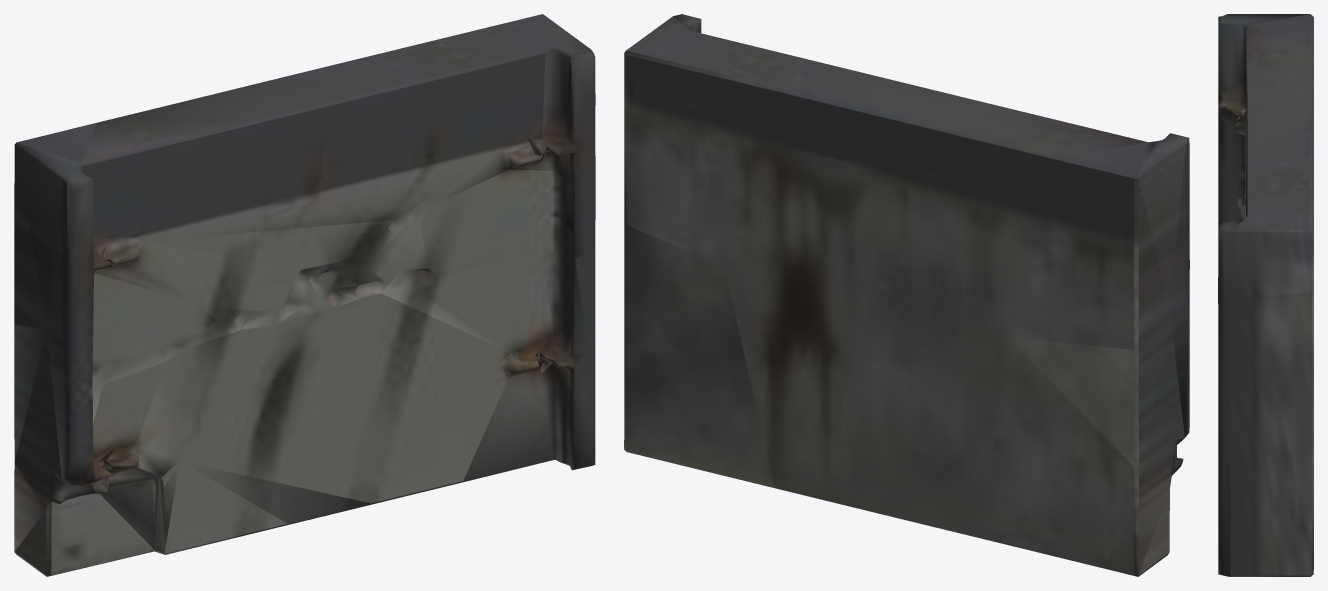
File: prop_bridge_deck.glb
The picture shows the model from 3 angles, left to right: view 1: azimuth 30°, elevation 25°; view 2: azimuth 150°, elevation 25°; view 3: azimuth 270°, elevation 25°; orthographic projection. The views are drawn at different scales.
Parts seen in each view (by area): view 1: Mesh_0; view 2: Mesh_0; view 3: Mesh_0.
Part boxes in pixels (x1=…): Mesh_0: x1=14, y1=14, x2=595, y2=576; Mesh_0: x1=624, y1=14, x2=1189, y2=576; Mesh_0: x1=1218, y1=14, x2=1313, y2=576.
Size of the model in its own units: 2 by 1.49 by 0.373.
Materials: 1 (1 with a texture image).
